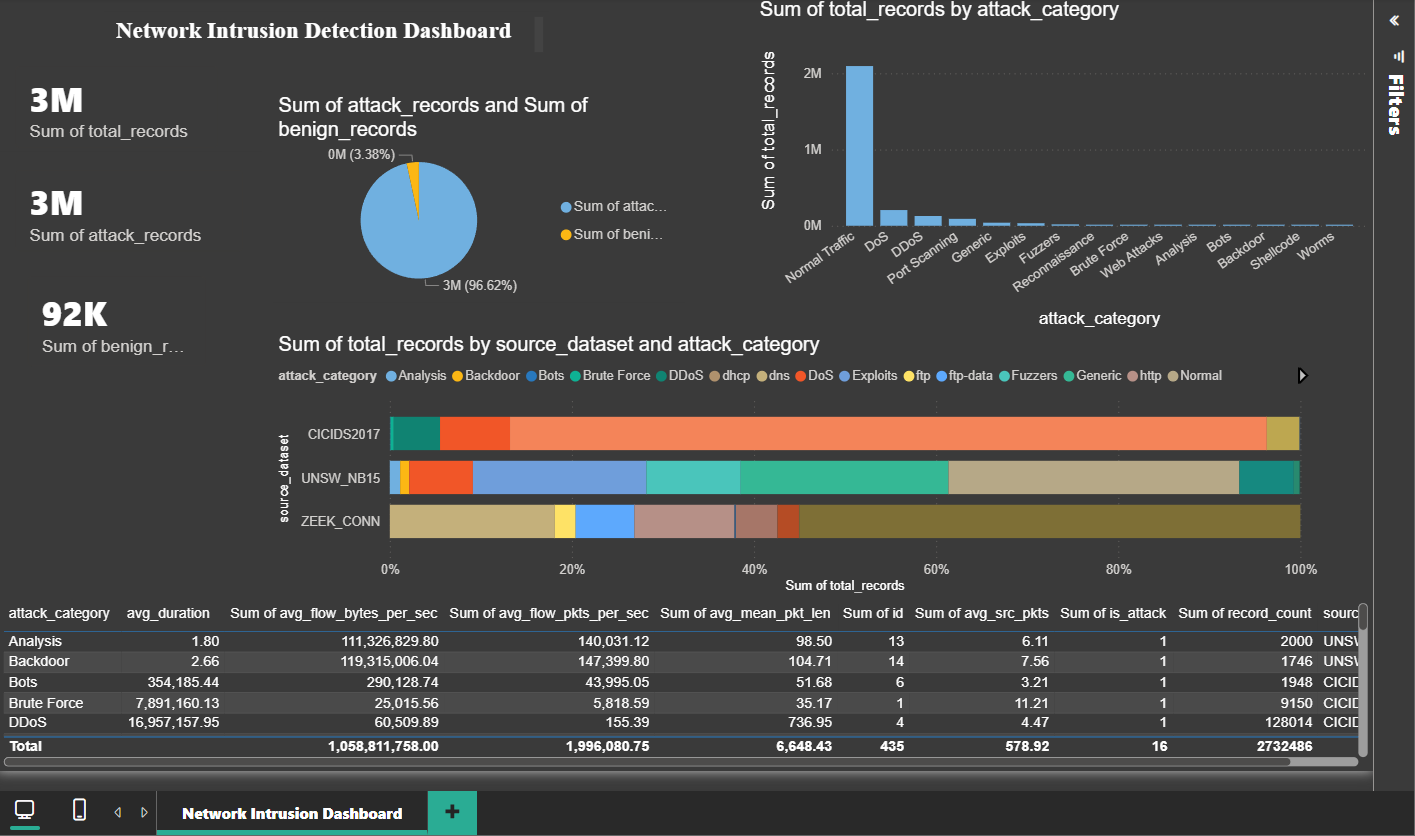

The dashboard page shown, as its layout file describes it:
{"tool":"powerbi","page":{"name":"Network Intrusion Dashboard","canvas":[1280,720],"ordinal":0},"visuals":[{"type":"cardVisual","fields":{"Data":["Sum(v_dataset_overview.total_records)"]},"box":[0,46.7,223.3,110],"z":0},{"type":"cardVisual","fields":{"Data":["Sum(v_dataset_overview.attack_records)"]},"box":[0,143.3,246.7,110],"z":1},{"type":"pieChart","fields":{"Y":["Sum(v_dataset_overview.attack_records)","Sum(v_dataset_overview.benign_records)"]},"box":[256.7,90,383.3,193.3],"z":4},{"type":"clusteredColumnChart","fields":{"Category":["v_top_attack_categories.attack_category"],"Y":["Sum(v_top_attack_categories.total_records)"]},"box":[705,0,575,311.7],"z":5},{"type":"hundredPercentStackedBarChart","fields":{"Category":["v_attack_distribution.source_dataset"],"Series":["v_attack_distribution.attack_category"],"Y":["Sum(v_attack_distribution.total_records)"]},"box":[256.7,311.7,976.7,246.7],"z":6},{"type":"tableEx","fields":{"Values":["attack_summary.attack_category","attack_summary.avg_duration","Sum(attack_summary.avg_flow_bytes_per_sec)","Sum(attack_summary.avg_flow_pkts_per_sec)","Sum(attack_summary.avg_mean_pkt_len)","Sum(attack_summary.id)","Sum(attack_summary.avg_src_pkts)","Sum(attack_summary.is_attack)","Sum(attack_summary.record_count)","attack_summary.source_dataset"]},"box":[0,558.3,1280,161.7],"z":7},{"type":"cardVisual","fields":{"Data":["Sum(v_dataset_overview.benign_records)"]},"box":[11.7,241.7,200,118.3],"z":8},{"type":"textbox","box":[100,13.3,413.3,46.7],"z":9}]}

Visuals, with their boxes on the page's 1280x720 design canvas (x1, y1, x2, y2). These are canvas units, not pixel positions in the 1415x836 screenshot, which may show the page scaled, cropped or inside an application window:
cardVisual - Sum(v_dataset_overview.total_records): pyautogui.locateOnScreen(0, 47, 223, 157)
cardVisual - Sum(v_dataset_overview.attack_records): pyautogui.locateOnScreen(0, 143, 247, 253)
pieChart - Sum(v_dataset_overview.attack_records) x Sum(v_dataset_overview.benign_records): pyautogui.locateOnScreen(257, 90, 640, 283)
clusteredColumnChart - v_top_attack_categories.attack_category x Sum(v_top_attack_categories.total_records): pyautogui.locateOnScreen(705, 0, 1280, 312)
hundredPercentStackedBarChart - v_attack_distribution.source_dataset x v_attack_distribution.attack_category: pyautogui.locateOnScreen(257, 312, 1233, 558)
tableEx - attack_summary.attack_category x attack_summary.avg_duration: pyautogui.locateOnScreen(0, 558, 1280, 720)
cardVisual - Sum(v_dataset_overview.benign_records): pyautogui.locateOnScreen(12, 242, 212, 360)
textbox: pyautogui.locateOnScreen(100, 13, 513, 60)
